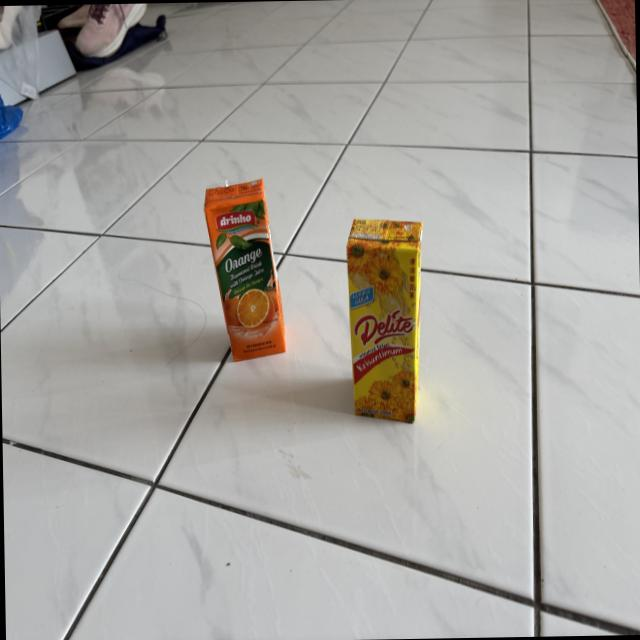drink_carton: (342, 207, 430, 438), (199, 174, 294, 367)
